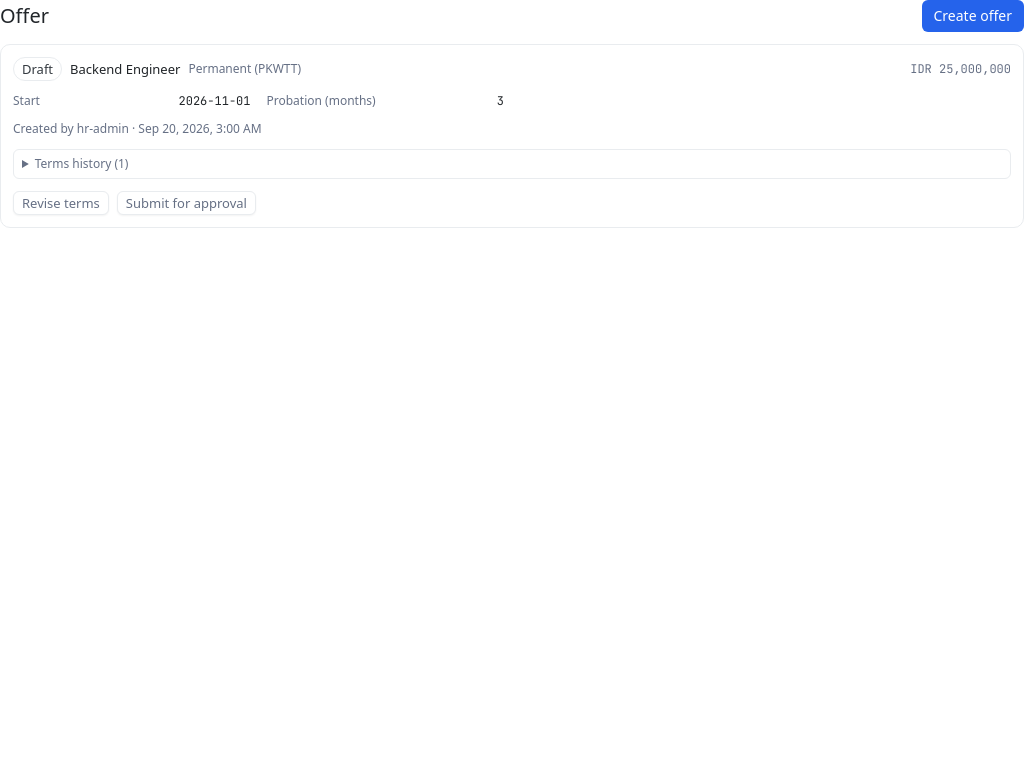
Test: OfferPanel › offers revise and submit for a draft, prefilled for revision
This screenshot has width=1024, height=768.
Check: the button "Submit for approval" is shown, box x1=117 y1=191 x2=256 y2=215
Click the button "Revise terms": {"x": 61, "y": 203} x1=13 y1=191 x2=109 y2=215
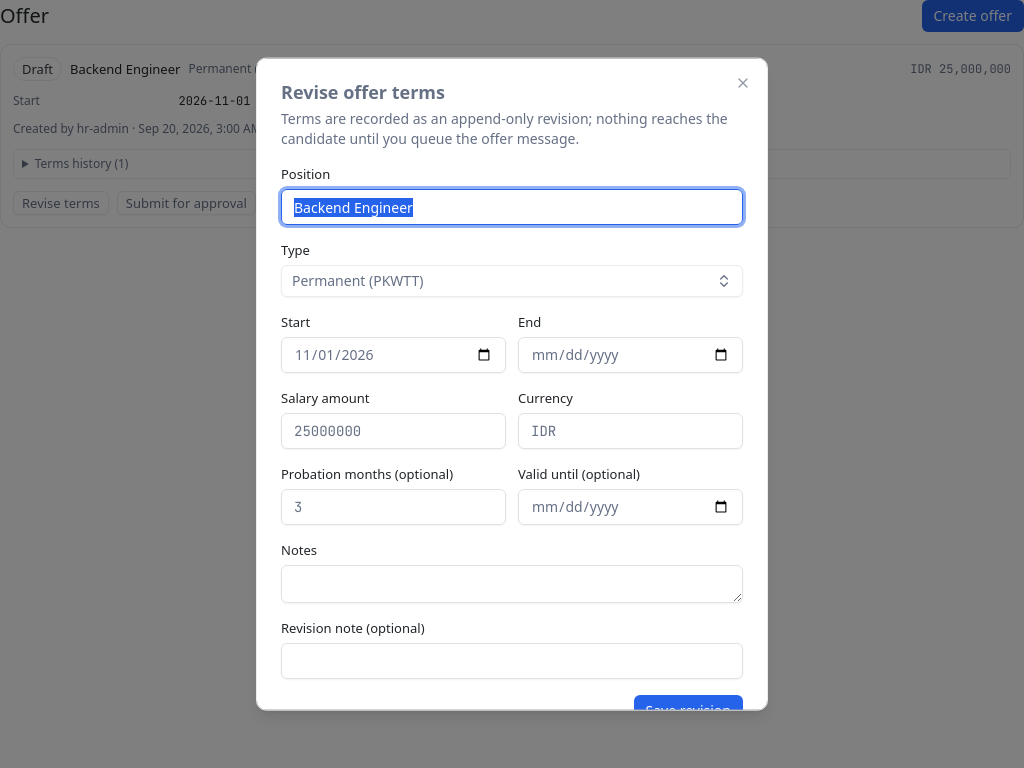
Check: the heading "Revise offer terms" is shown, box x1=281 y1=80 x2=445 y2=104
Check: the field labelled "Position" holds "Backend Engineer", box x1=281 y1=189 x2=743 y2=225
